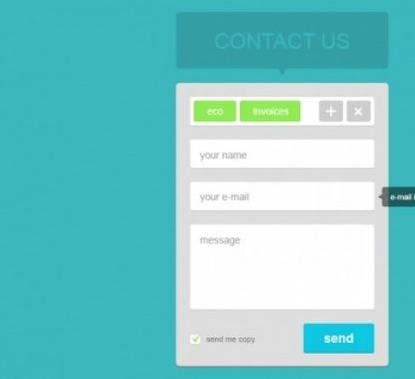button: (302, 322, 377, 354), (239, 98, 303, 123), (190, 97, 237, 123)
checkbox: (189, 332, 201, 346)
checkbox_with_label: (187, 330, 256, 347)
field: (188, 223, 375, 311), (189, 137, 376, 170), (188, 181, 376, 212)
